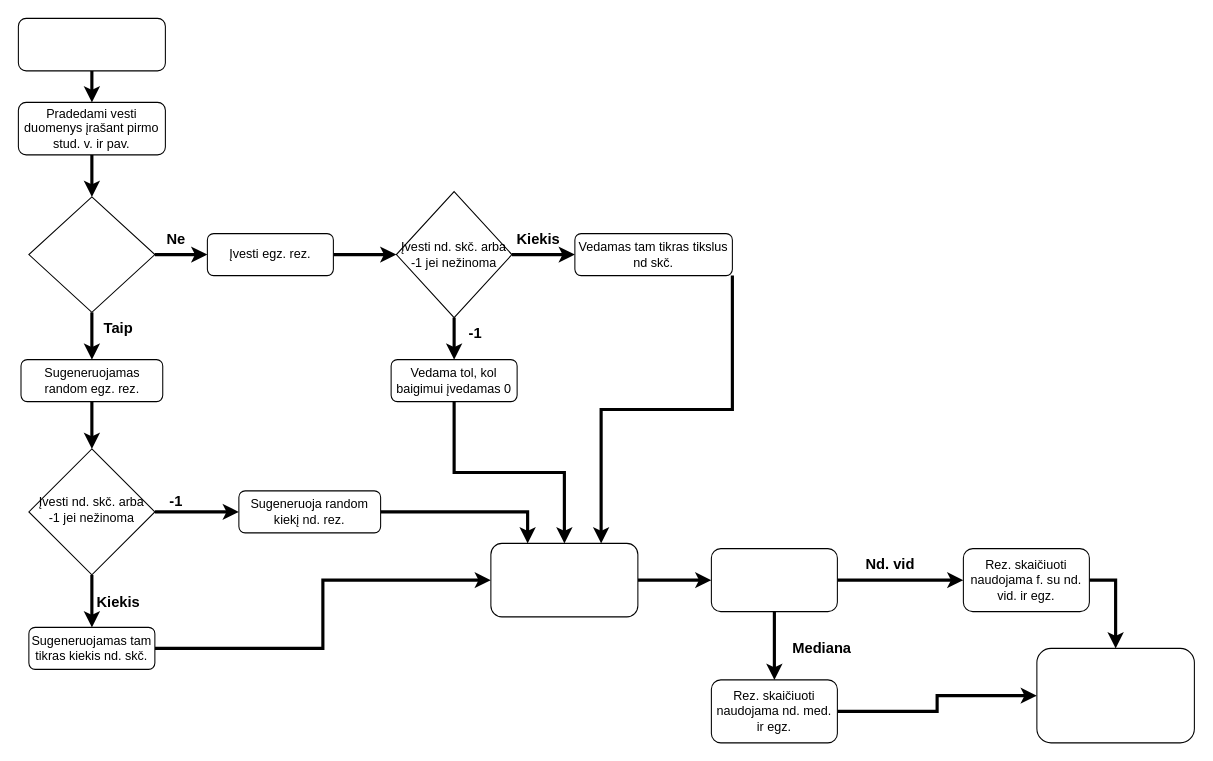
The diagram is 1213 pixels wide and 761 high, and some of its shapes have lost their labels. The centre of each missing label's shape, as x and y in pixels:
"Ar generuoti random pažymius?" belongs at [91,254].
"Duomenų vedimas baigtas" belongs at [564,579].
"Išvedami visi stud. v., pav. ir gal. rez. pagal vid. / med." belongs at [1115,695].
"Programa prašo įvesti studentų skaičių" belongs at [91,44].
"Vidurkių skaičiavimą daryti pagal medianą ar nd. vid?" belongs at [773,580].
